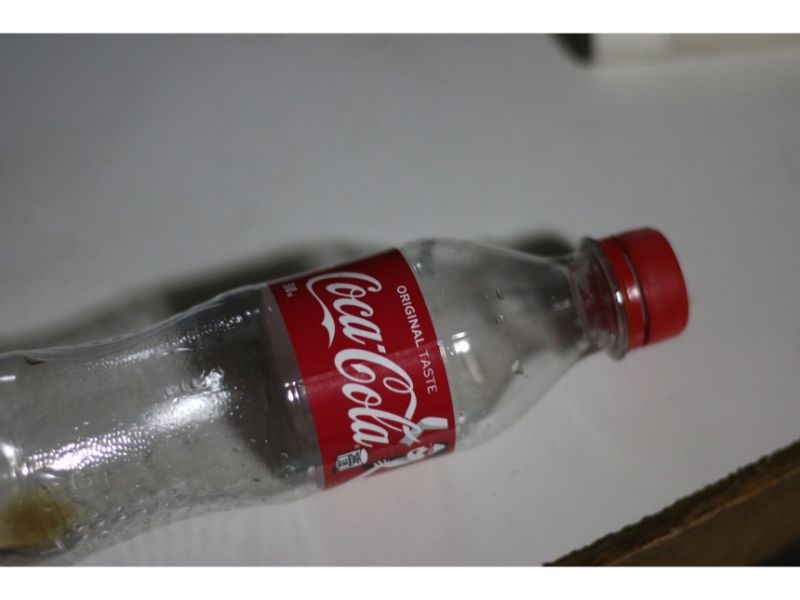PET #1: (2, 223, 692, 566)
